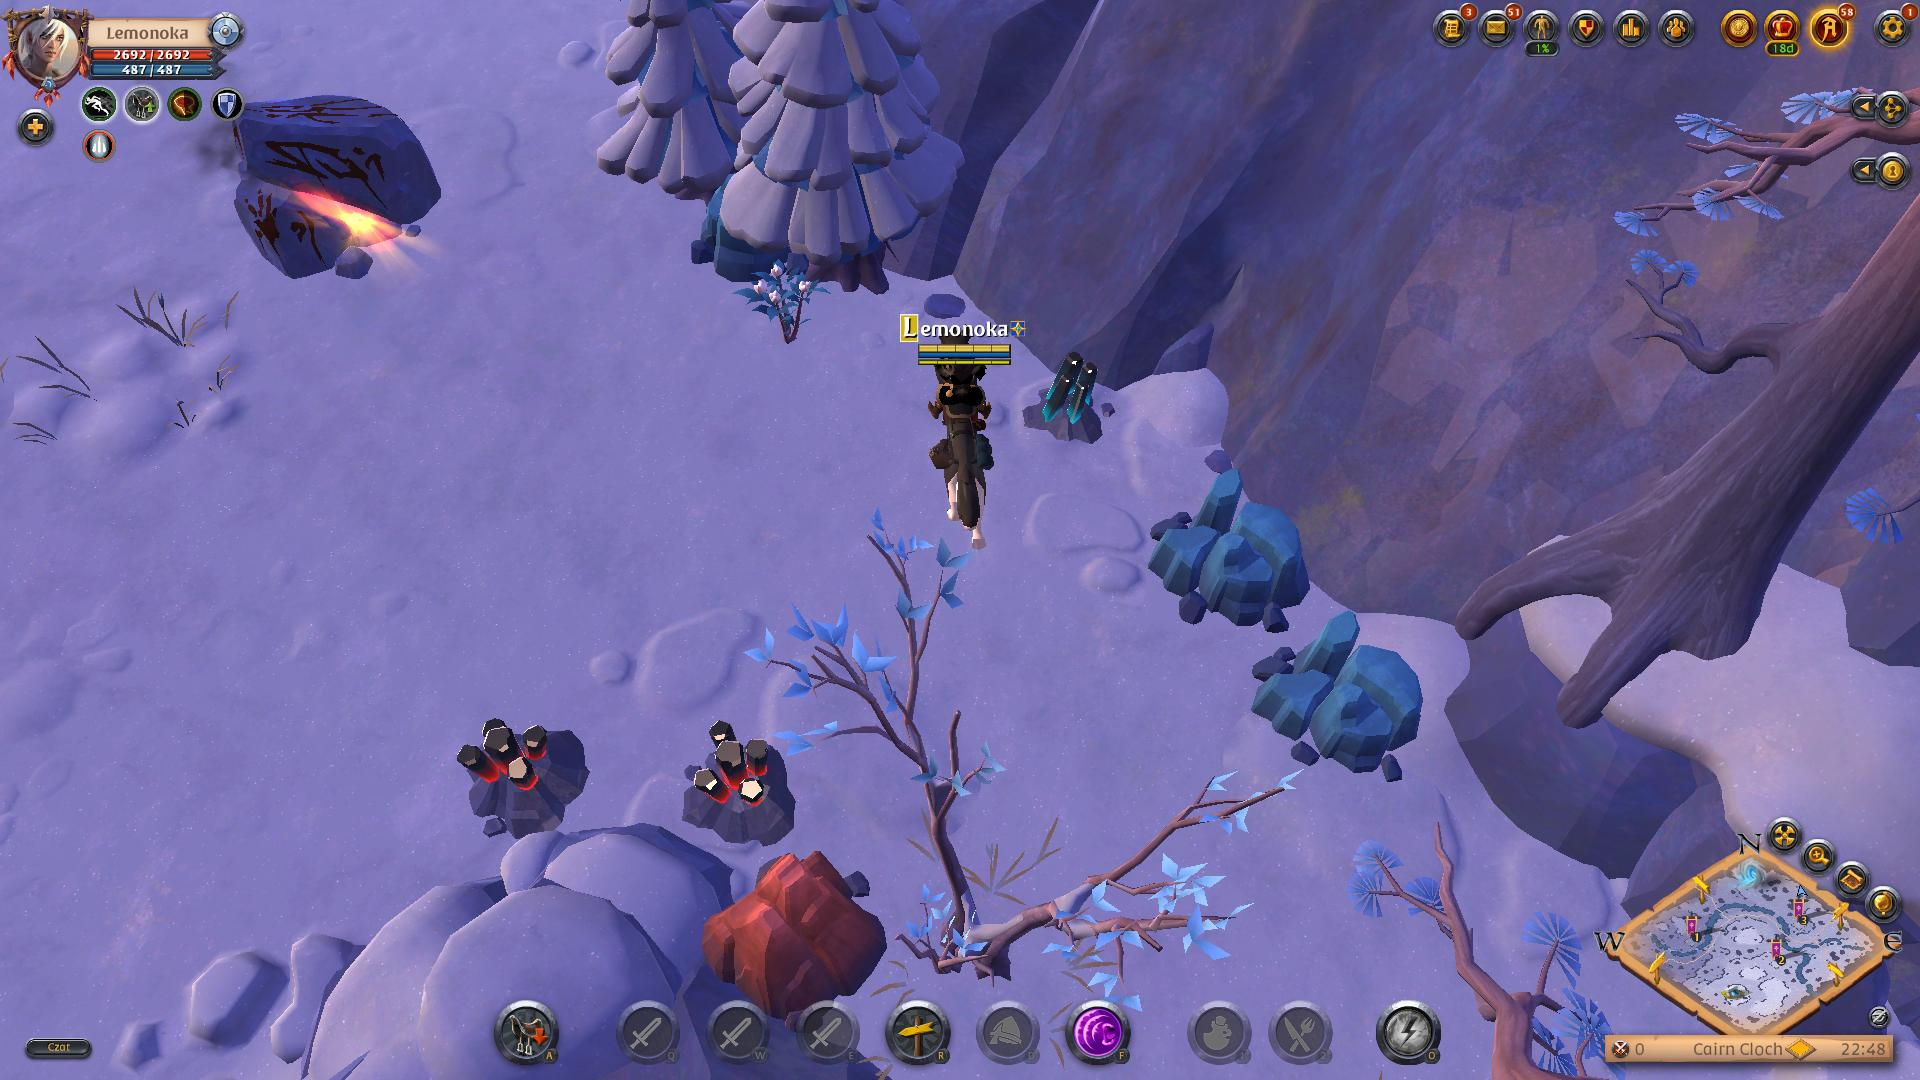fiber tier 4: (745, 264, 823, 345)
ore tier 4: (1036, 359, 1109, 455)
ore tier 5: (447, 709, 589, 835), (671, 724, 800, 849)
rock tier 4: (1253, 612, 1427, 779), (1139, 467, 1315, 633)
rock tier 5: (711, 849, 887, 1006)
